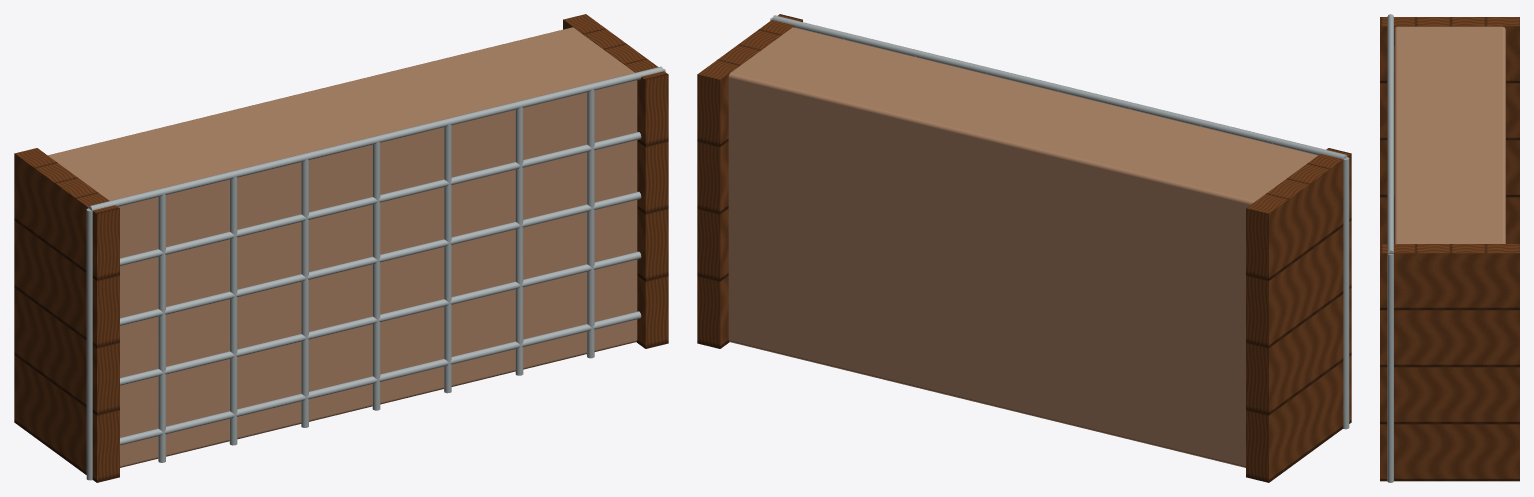
The model's file is rural-scavenging-settlements-stone-boundary-wall-074c7f48__26609.glb.
3 renders of one model, left to right at view 1: azimuth 30°, elevation 25°; view 2: azimuth 150°, elevation 25°; view 3: azimuth 270°, elevation 25°, orthographic. The views are drawn at different scales.
Visible parts, largest first — view 1: stone-boundary-wall; view 2: stone-boundary-wall; view 3: stone-boundary-wall.
Part boxes in pixels (bbox=[...]): stone-boundary-wall: bbox=[14, 14, 668, 482]; stone-boundary-wall: bbox=[697, 14, 1351, 482]; stone-boundary-wall: bbox=[1380, 14, 1519, 482].
Bounding box in the file's own units: 2.02 × 0.912 × 0.5001.
Materials: 3 (1 with a texture image).
